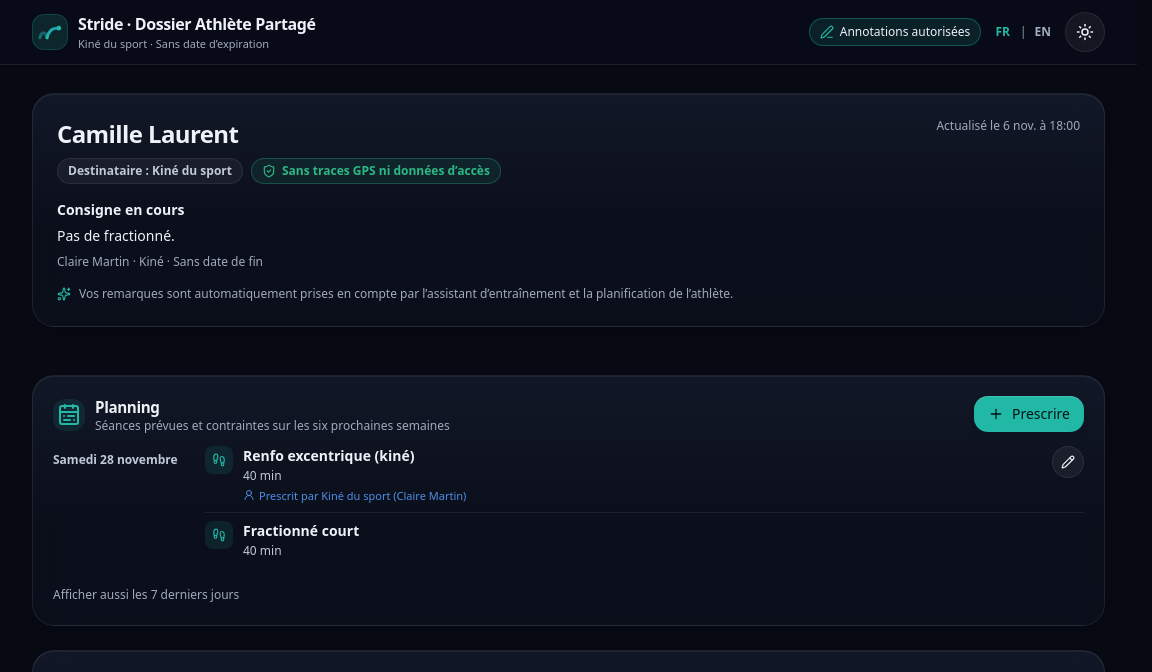
it: Share portal (§15.1) › prescribes a session inline and only lets the link edit what it prescribed
The image size is (1152, 672).
Later steps or results of the test are not shown.
Step 1. Click the button "Prescrire" → (1029, 414), box x1=974 y1=396 x2=1084 y2=432
(page scrolled)
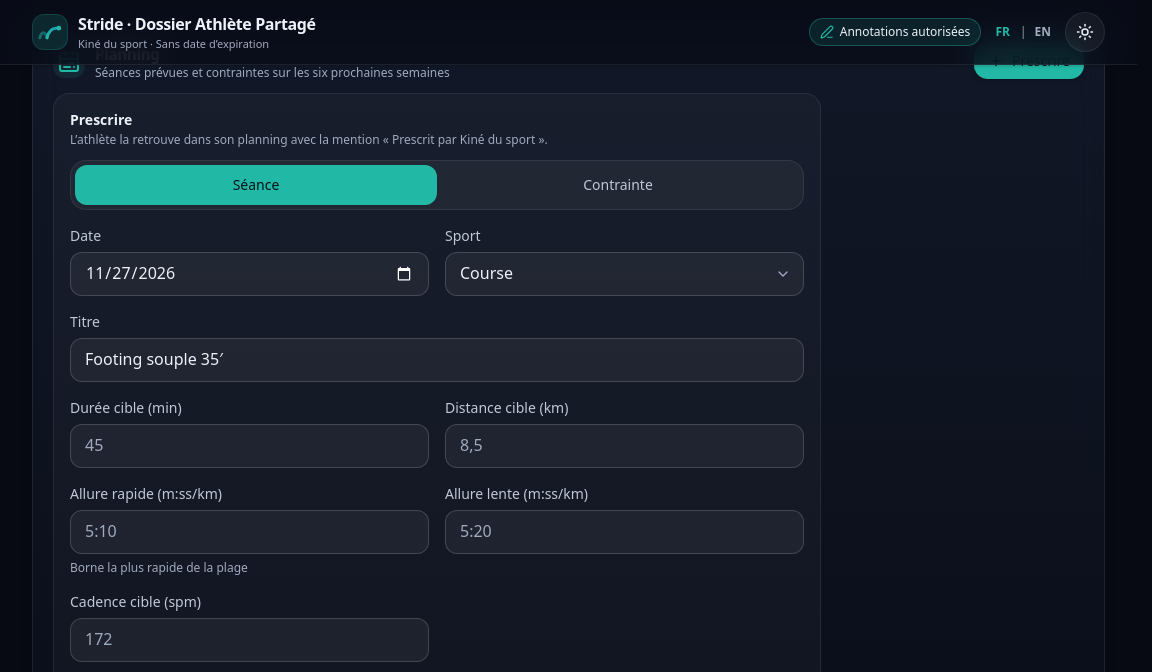
expect the field named "title" is shown: met, box x1=70 y1=338 x2=804 y2=382
